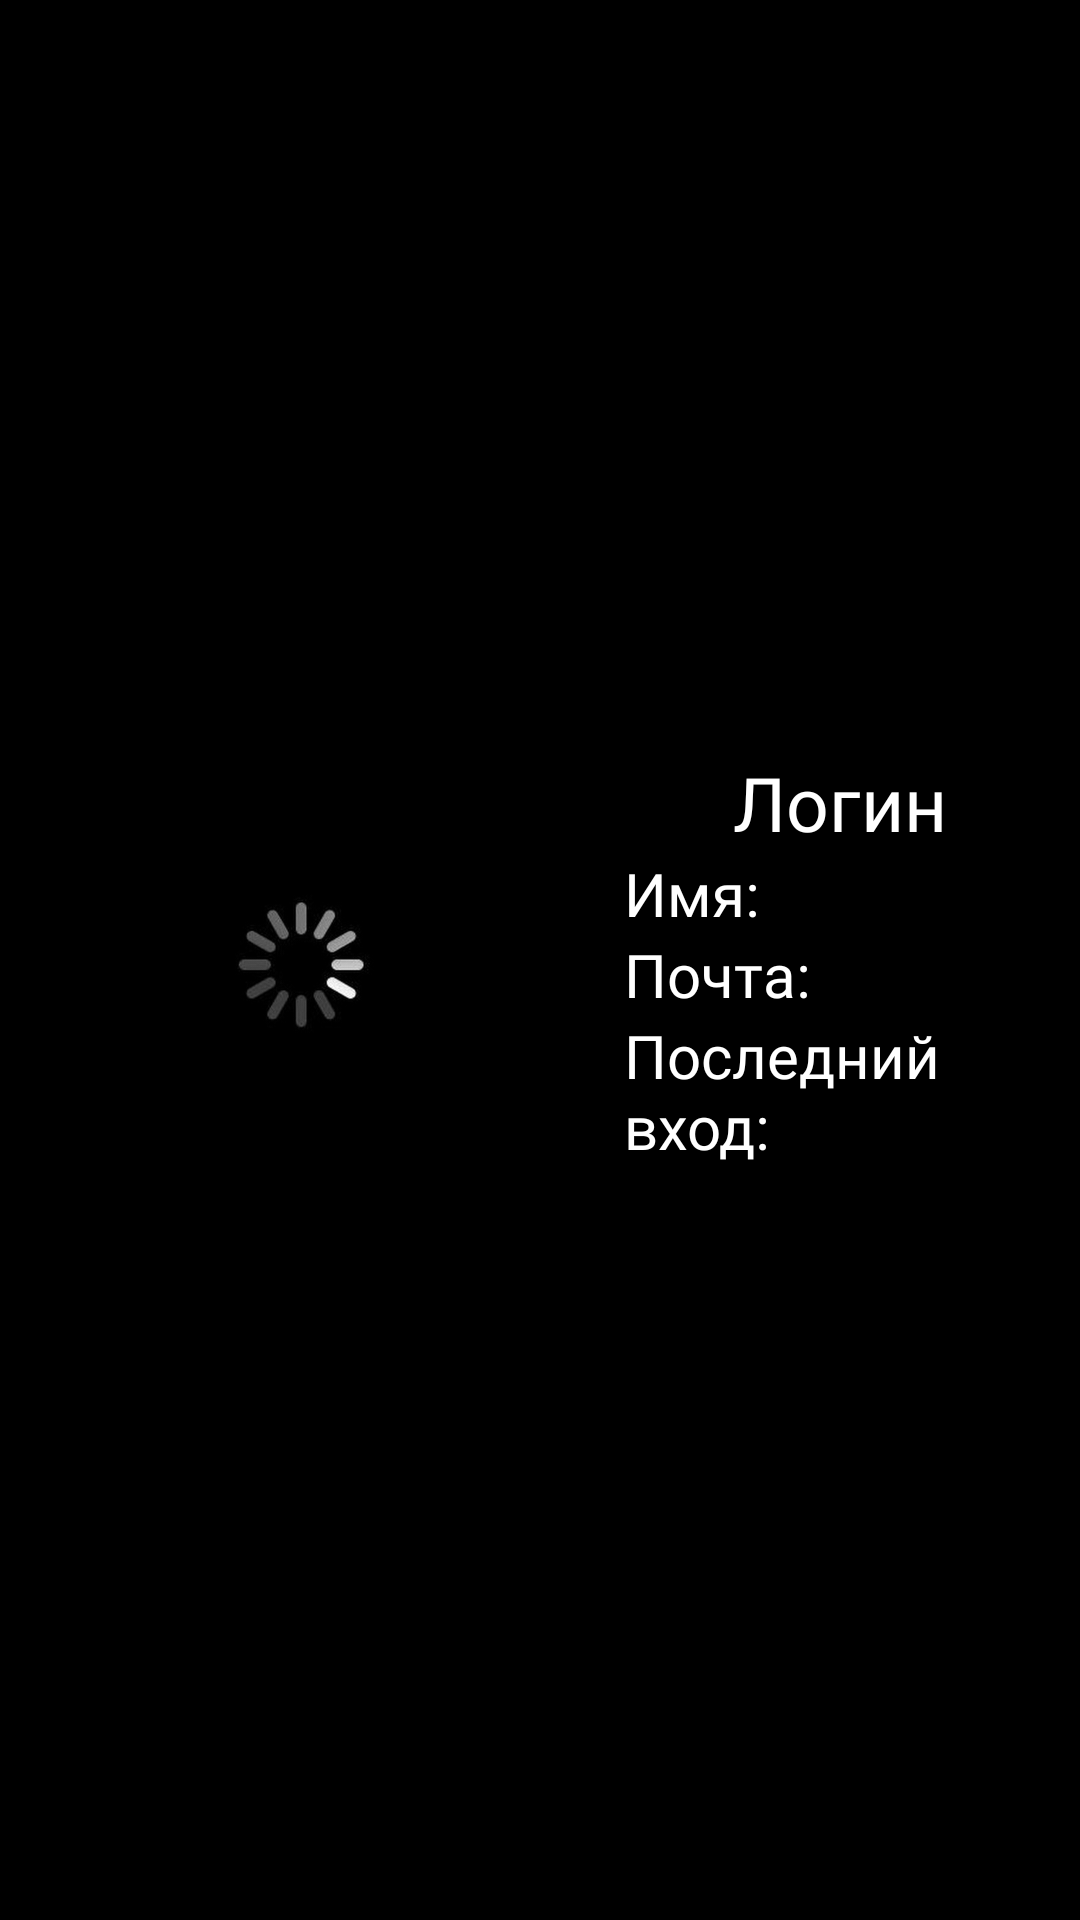

Icon bounding boxes for this 1080 × 1920 phone screenshot, format bbox=(x1, y1, x2, y2):
load: bbox=(239, 902, 364, 1027)
